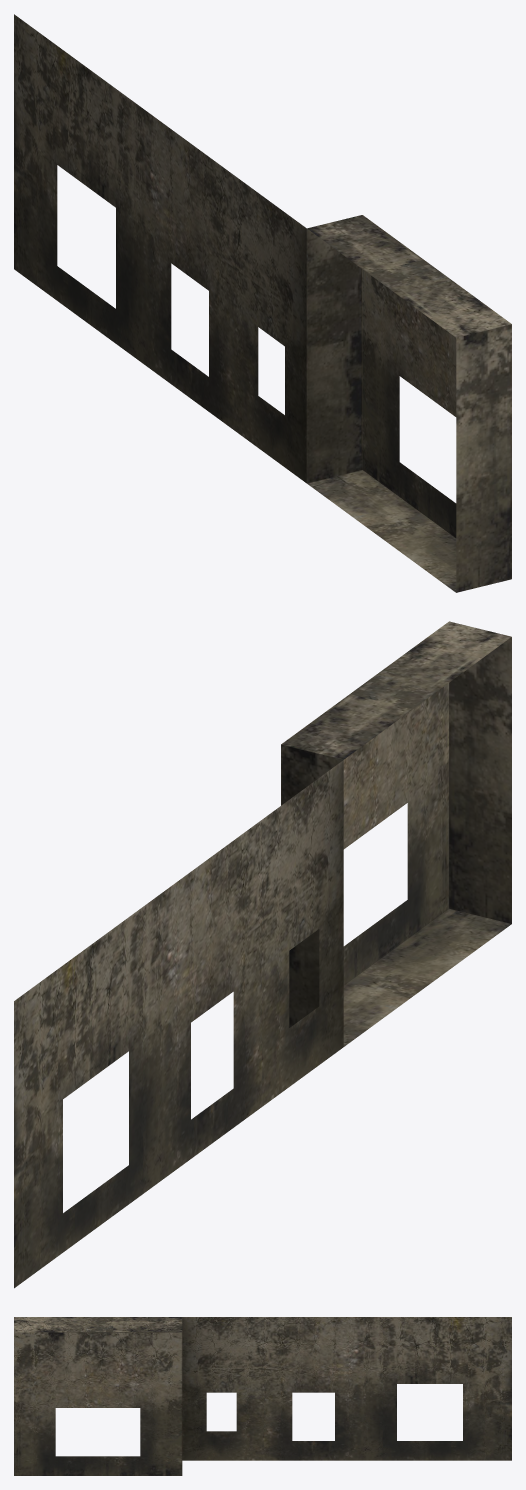
The model's file is Wall_04.FBX.
3 renders of one model, top to bottom at view 1: azimuth 30°, elevation 25°; view 2: azimuth 150°, elevation 25°; view 3: azimuth 270°, elevation 25°, orthographic. The views are drawn at different scales.
Parts seen in each view (by area): view 1: Wall_04; view 2: Wall_04; view 3: Wall_04.
Boxes of the visible parts, box(x1,y1,x2,y2) form: Wall_04: box(14, 14, 511, 592); Wall_04: box(14, 621, 511, 1288); Wall_04: box(14, 1317, 511, 1475).
Bounding box in the file's own units: 117 × 511 × 1606.
